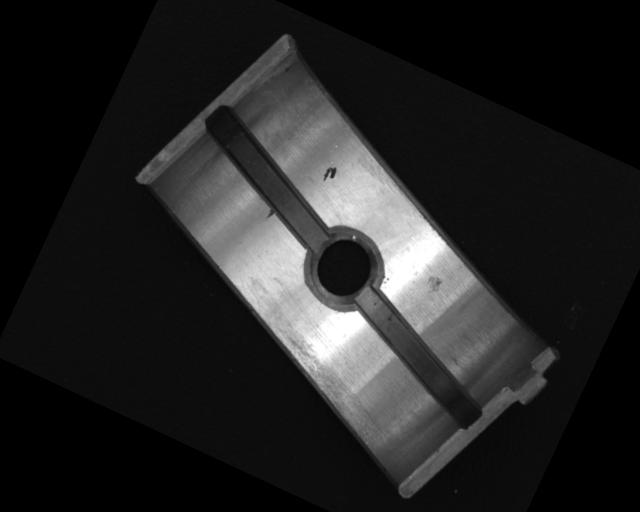blot: (320, 163, 340, 187)
bruise: (422, 272, 444, 296), (264, 207, 277, 222)
gap: (179, 104, 359, 254), (327, 287, 505, 431)
hole: (294, 218, 392, 320)
scratch: (236, 316, 415, 457)
